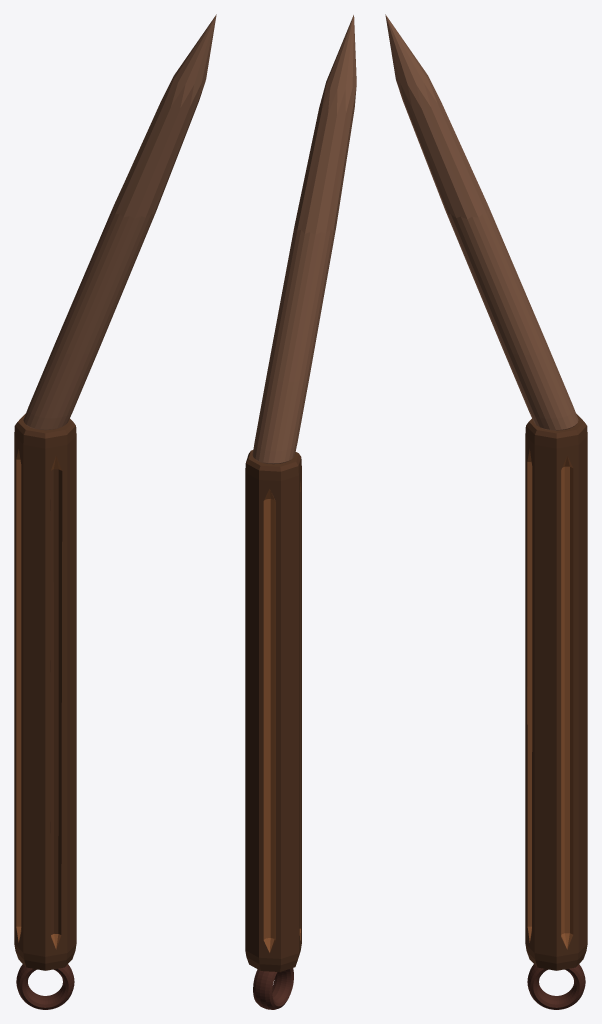
The model's file is Wand 591.glb.
3 renders of one model, left to right at view 1: azimuth 90°, elevation 25°; view 2: azimuth 150°, elevation 25°; view 3: azimuth 270°, elevation 25°, orthographic. The views are drawn at different scales.
Parts seen in each view (by area): view 1: GeneratedWand; view 2: GeneratedWand; view 3: GeneratedWand.
Boxes of the visible parts, x1,y1,x2,y2 form: GeneratedWand: (14, 14, 216, 1009); GeneratedWand: (245, 15, 356, 1009); GeneratedWand: (385, 14, 587, 1009).
Size of the model in its own units: 0.0289 by 0.5092 by 0.0939.
